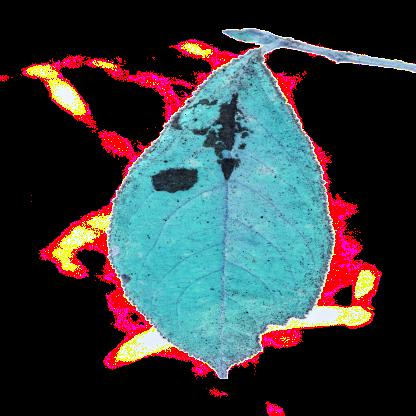blueberry leaf: (96, 43, 347, 376)
